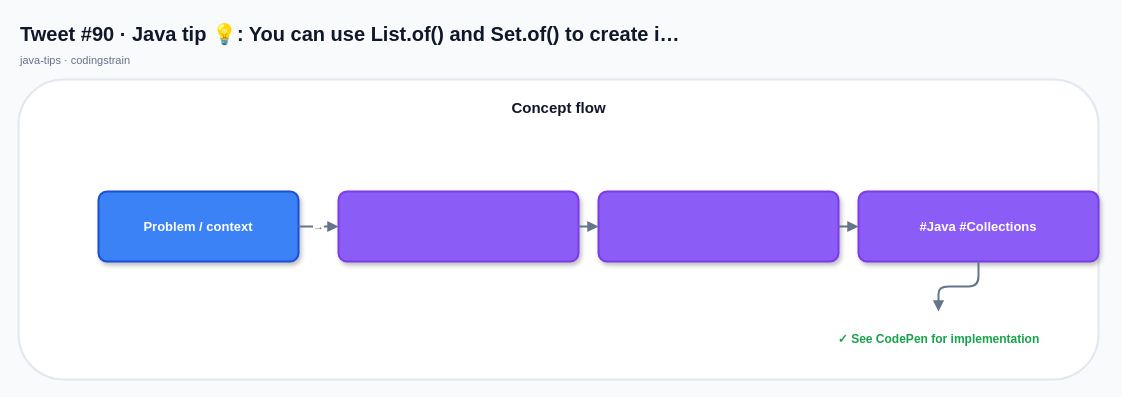
Some shapes in this 1122 by 397 pixel diagram are drawn without their labels. The centre of each missing label's shape, as x and y in pixels:
Java tip 💡: You can use List.of() and Set.of() to create immutable col: pixel 459 227
These are a quick ways to create unmodifiable lists and sets without u: pixel 719 227
